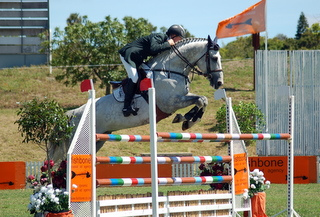person: (118, 23, 188, 118)
